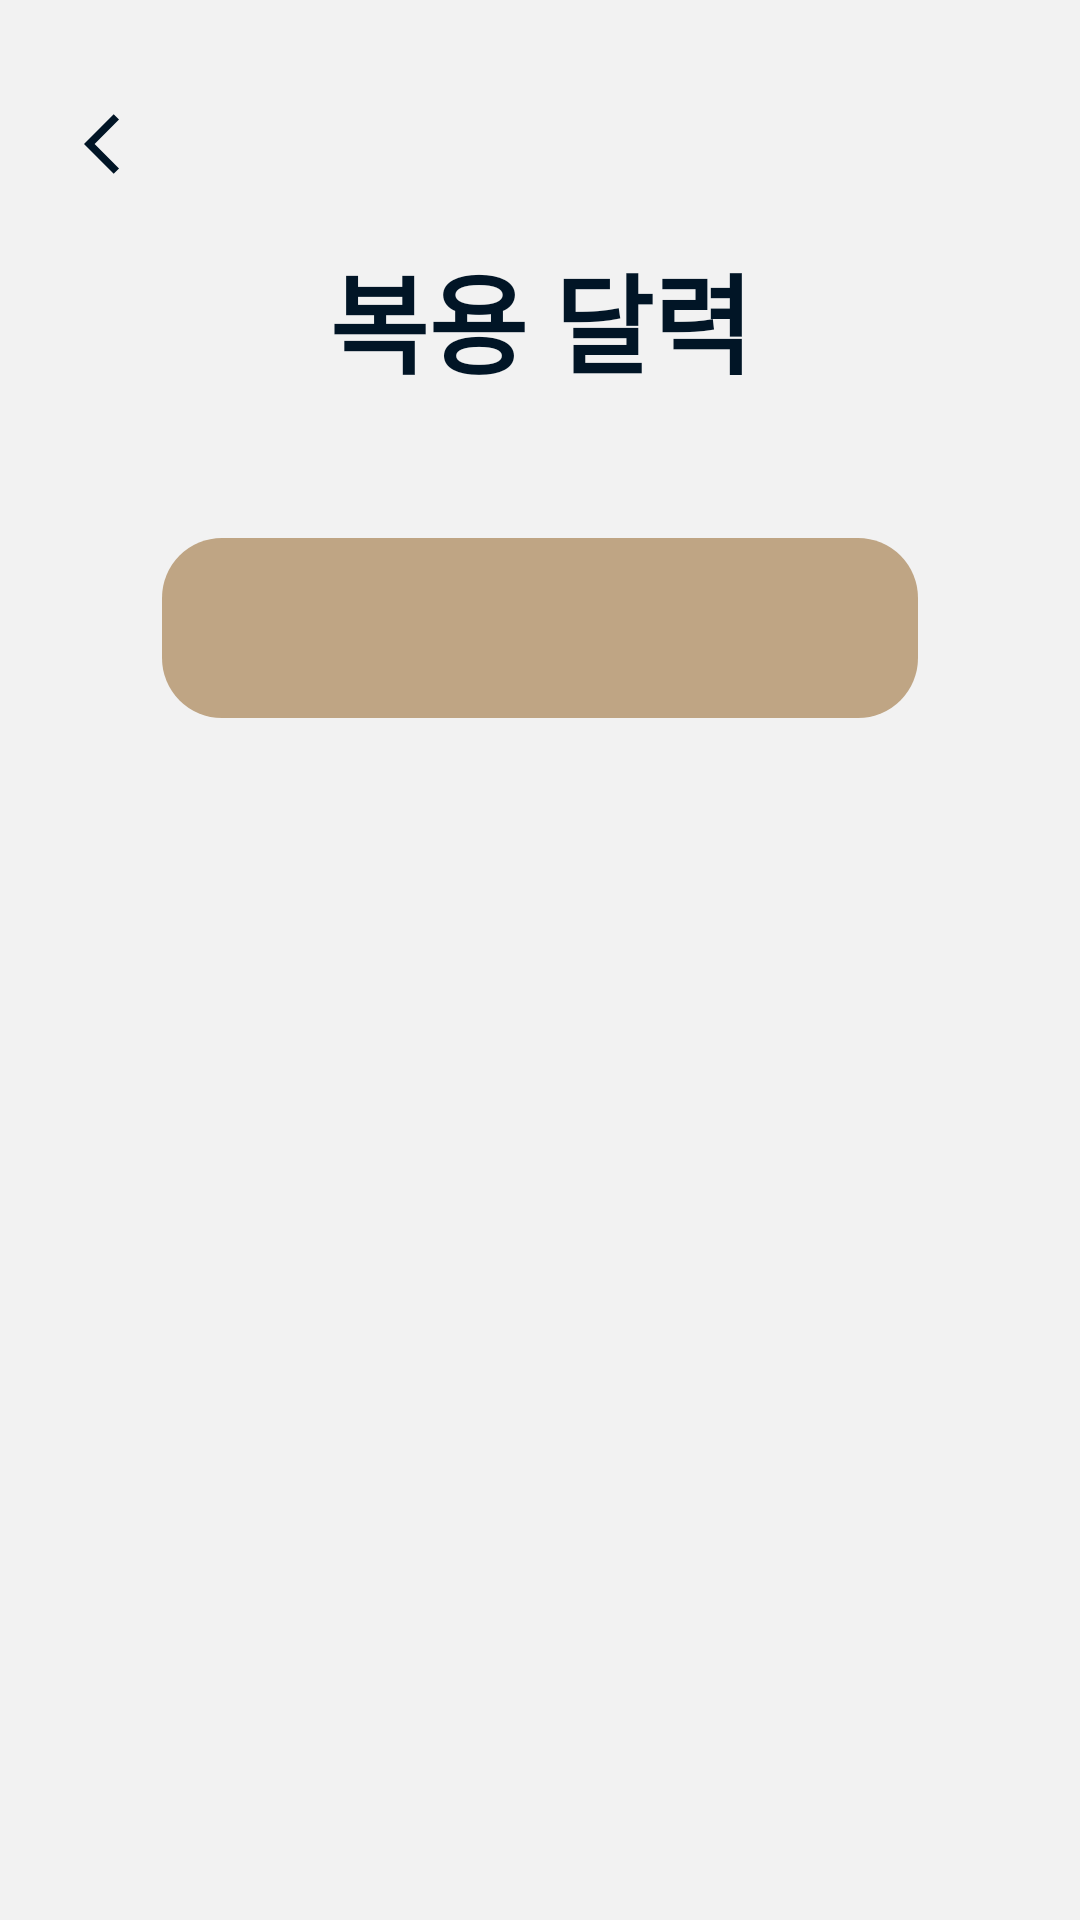

Icons on this 1080*1920 Android screen, each with its box as bbox(x1, y1, x2, y2):
arrow back: bbox(84, 114, 119, 174)
